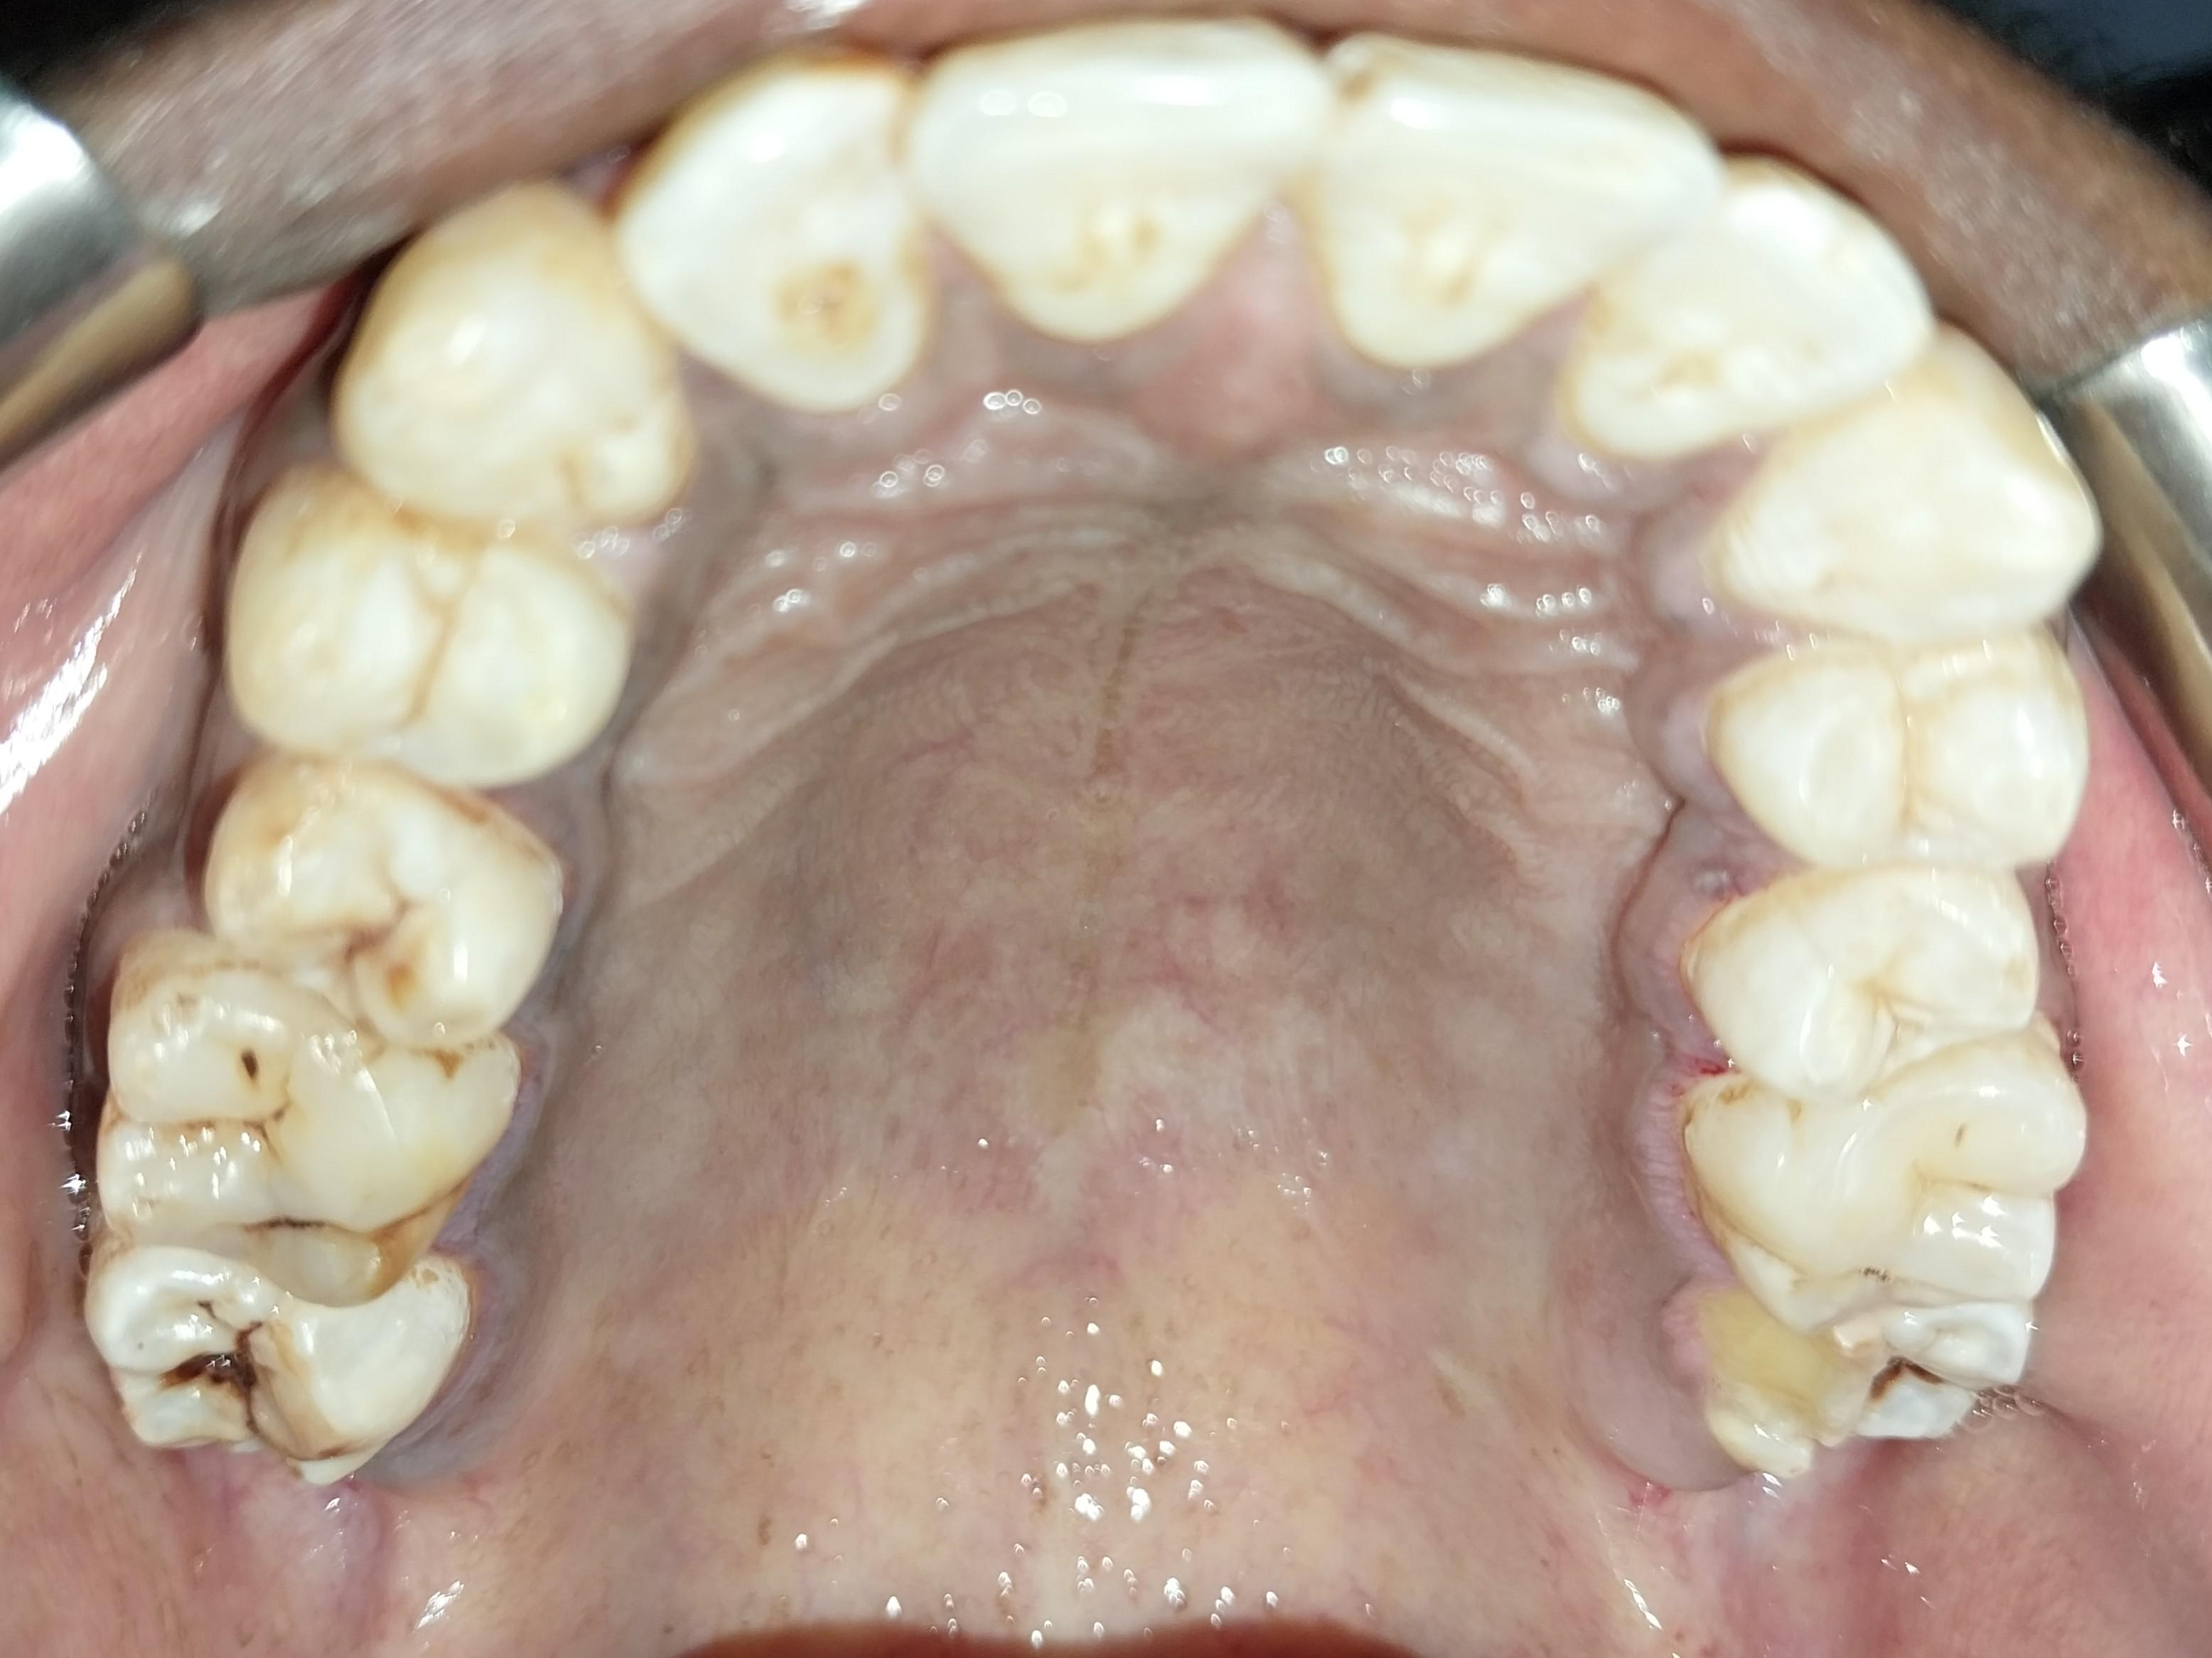D: (105, 946, 529, 1310), (82, 1232, 469, 1494), (1692, 1275, 2036, 1483)
